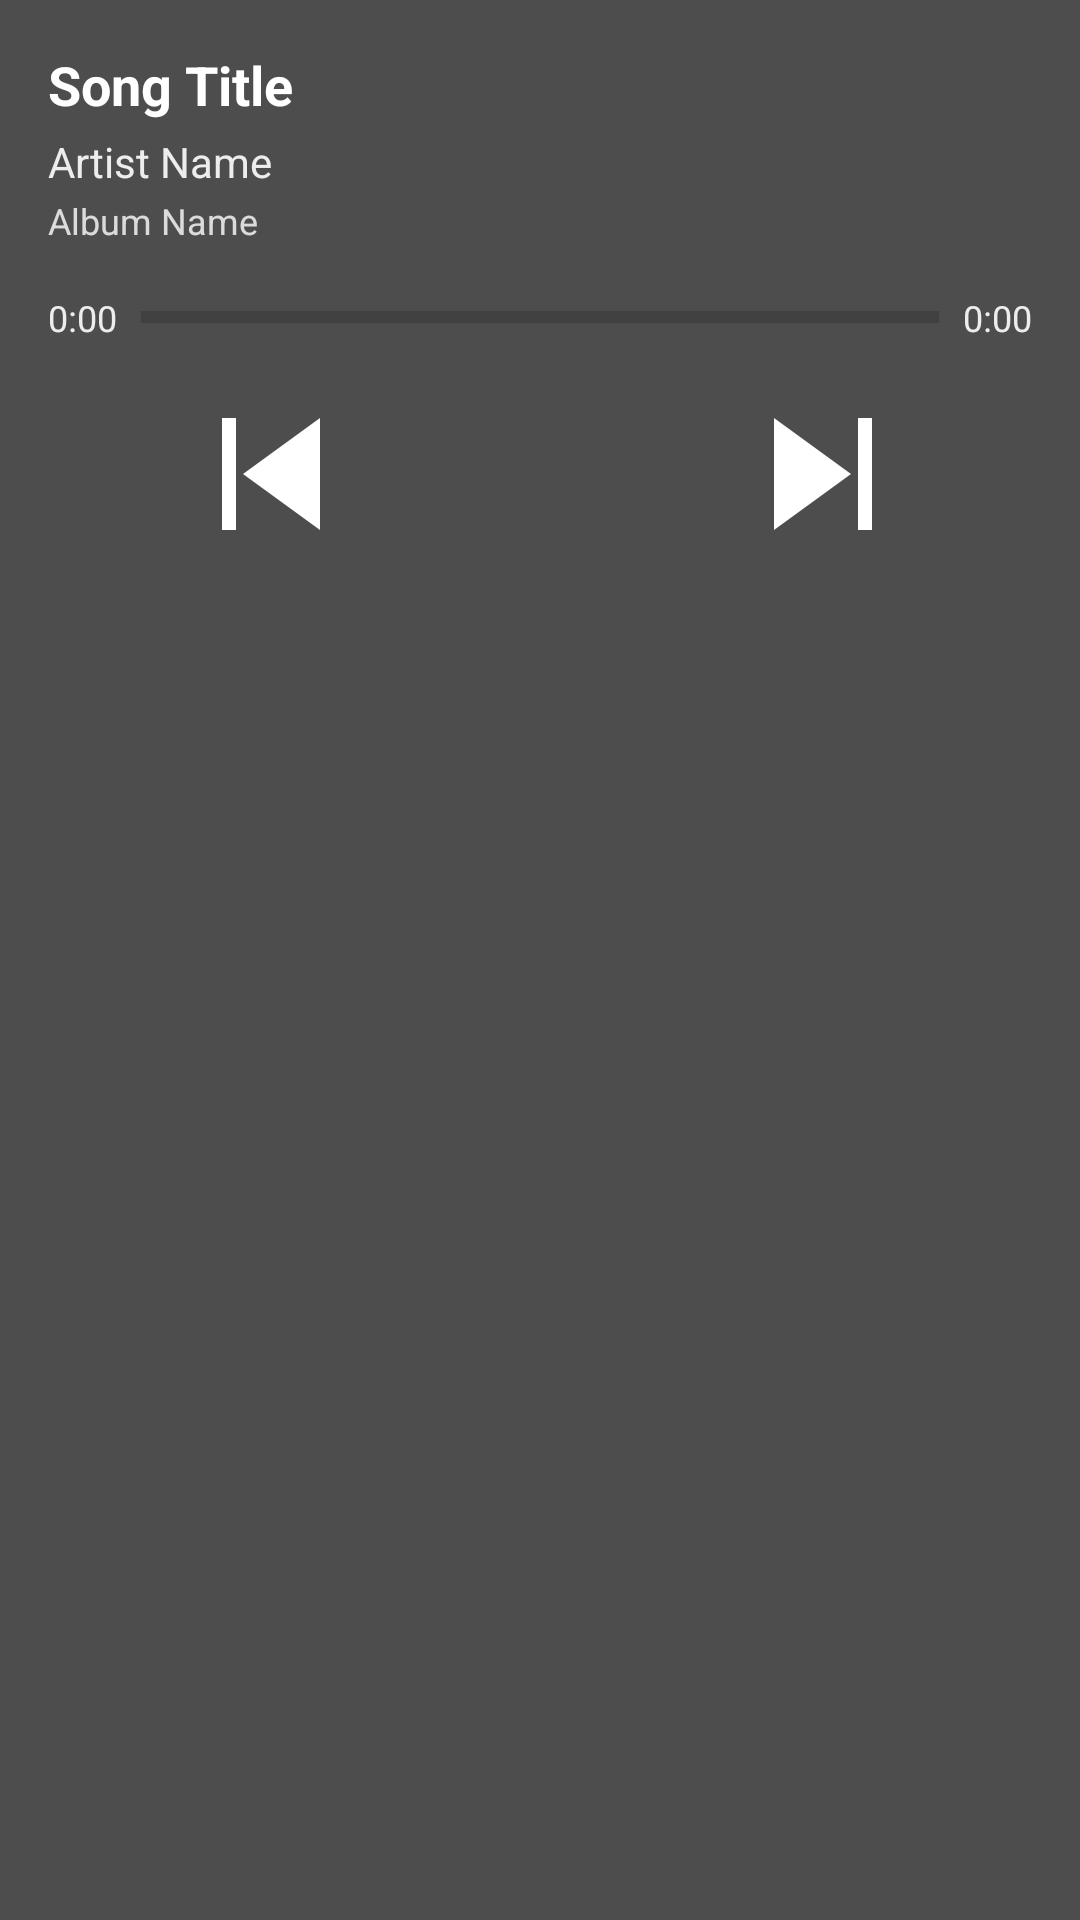

Icons on this 1080×1920 Android screen, each with the point to tap as (x,y):
Next: (823,474)
Previous: (271,474)
